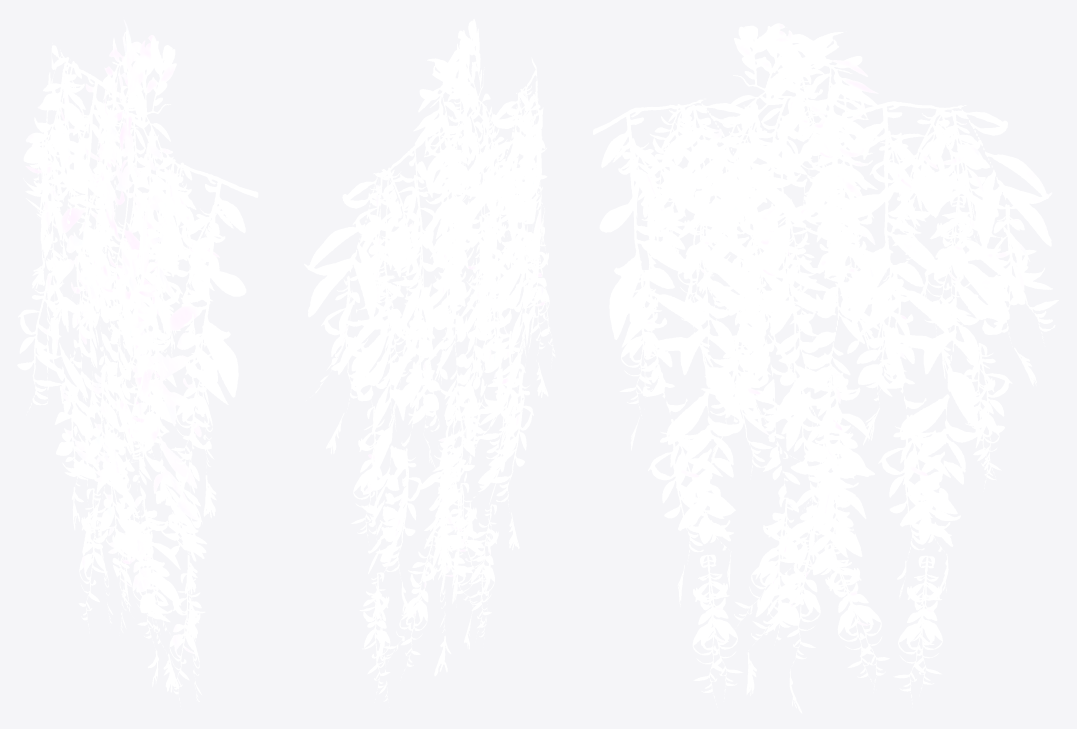
The picture shows the model from 3 angles, left to right: view 1: azimuth 30°, elevation 25°; view 2: azimuth 150°, elevation 25°; view 3: azimuth 270°, elevation 25°; orthographic projection. The views are drawn at different scales.
Visible parts, largest first — view 1: SM_FH_Climbing_A_01_LOD0; view 2: SM_FH_Climbing_A_01_LOD0; view 3: SM_FH_Climbing_A_01_LOD0.
Boxes of the visible parts, x1=… form: SM_FH_Climbing_A_01_LOD0: x1=17, y1=20, x2=258, y2=709; SM_FH_Climbing_A_01_LOD0: x1=304, y1=19, x2=555, y2=707; SM_FH_Climbing_A_01_LOD0: x1=593, y1=23, x2=1058, y2=713.
Bounding box in the file's own units: 0.461 × 3.5 × 2.19.
1 material, 1 textured.
